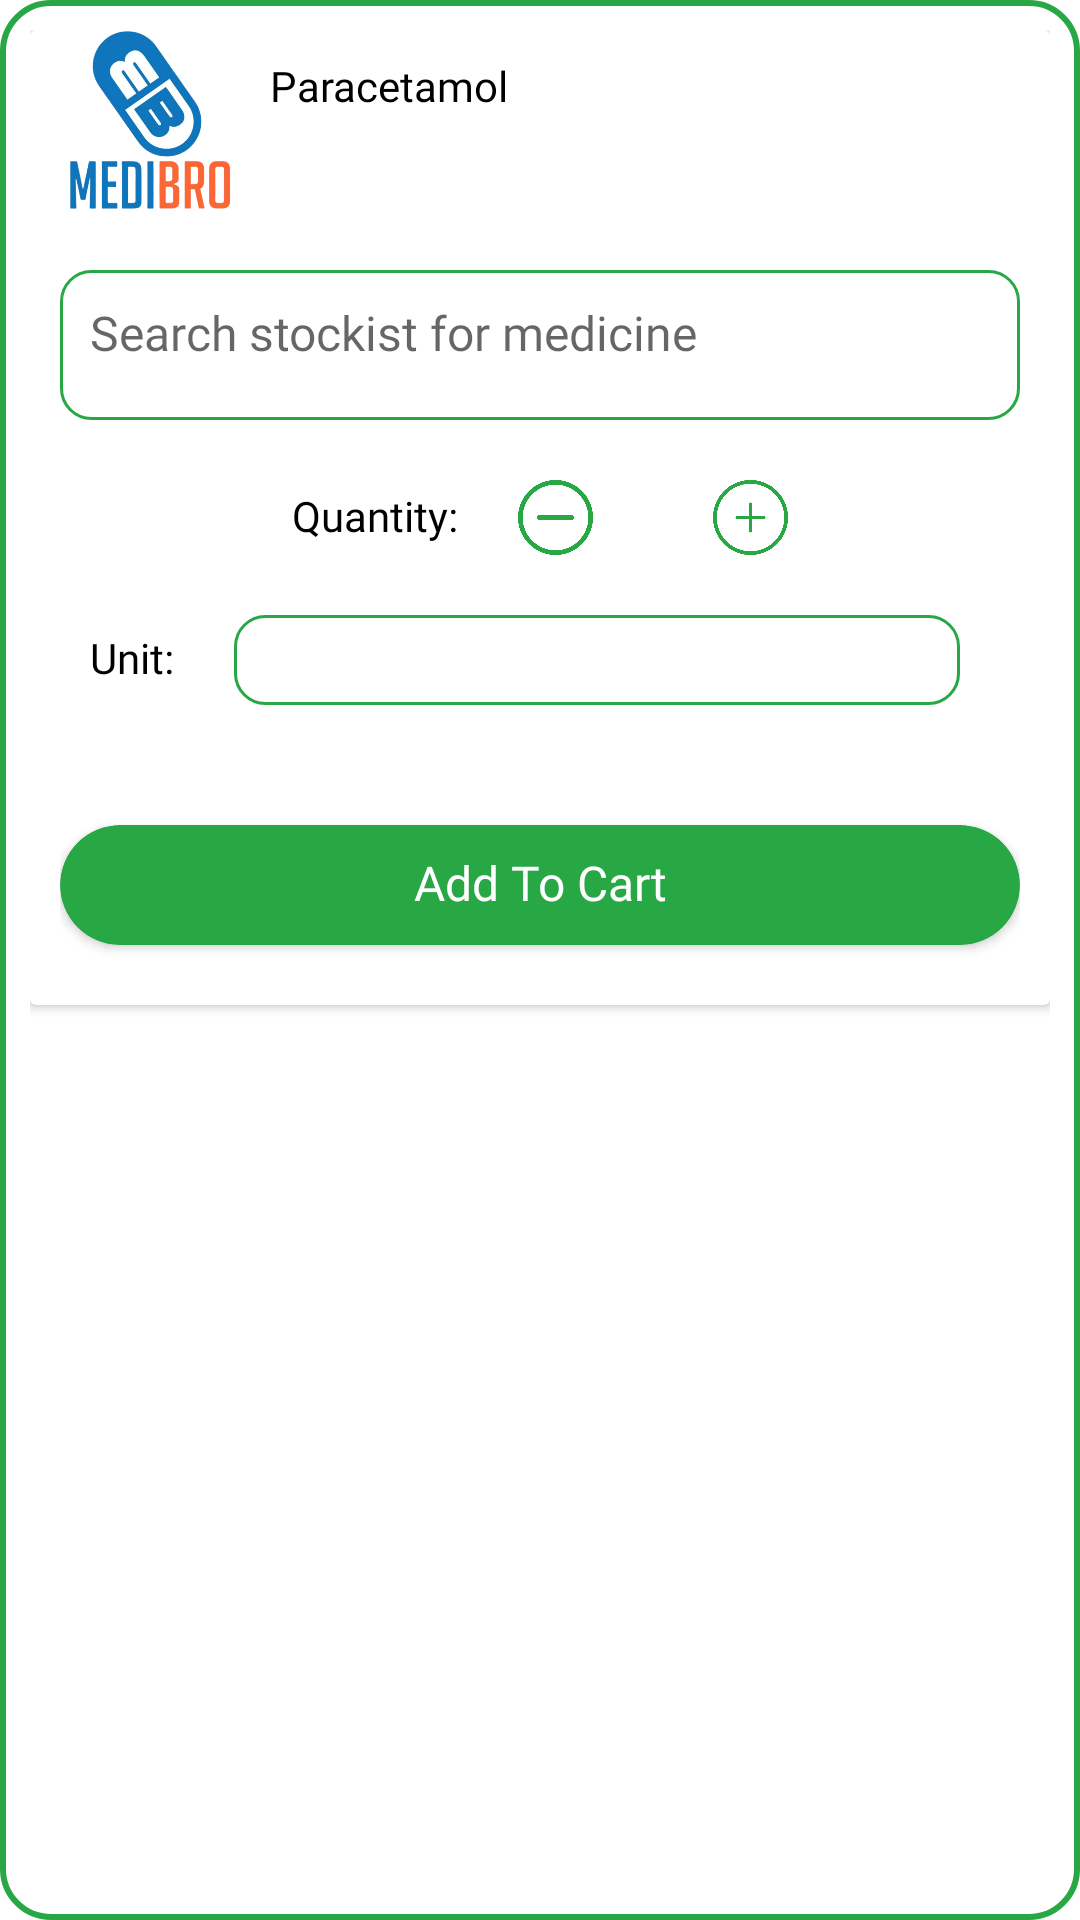

Where to tap for icons on this 1080w x 1920h app screen, as [x,y]:
add: [750,517]
minus: [555,517]
